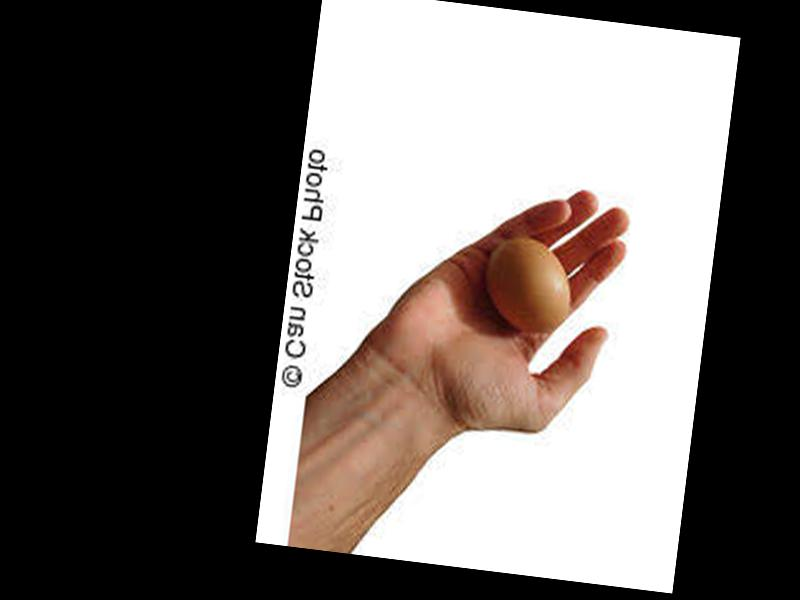Eggs: (481, 232, 574, 332)
